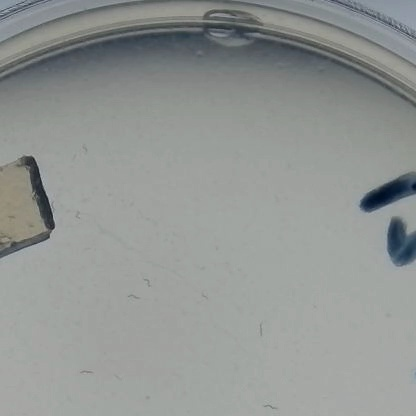worm: (78, 142, 102, 167), (251, 395, 278, 416), (190, 287, 223, 303), (72, 361, 99, 380), (251, 319, 273, 342), (121, 290, 145, 311), (137, 275, 158, 295), (106, 369, 130, 385), (69, 208, 89, 227)
